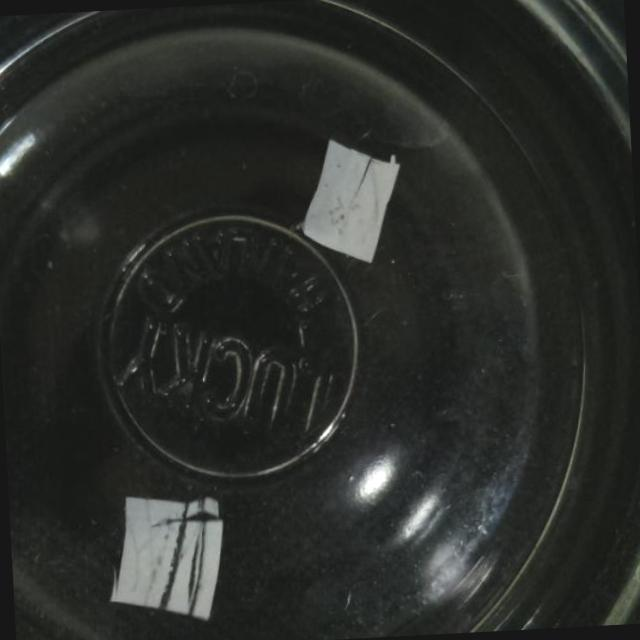fiber: (108, 488, 239, 628), (292, 123, 408, 270)
